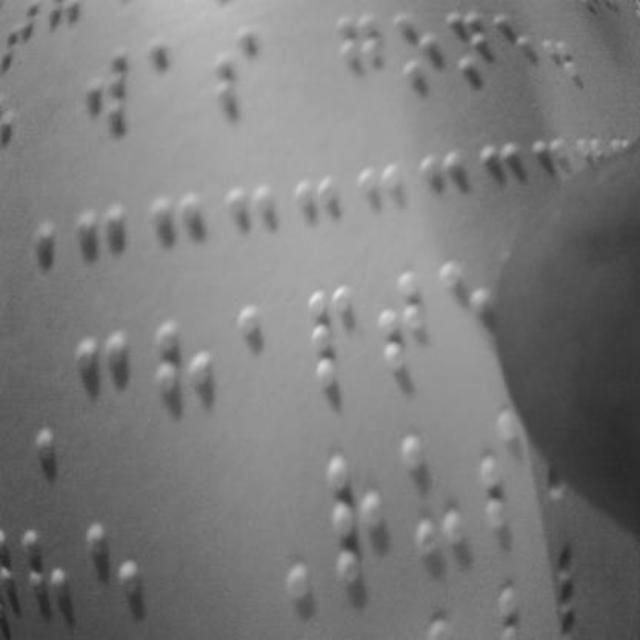braiile: (399, 424, 469, 572), (320, 454, 392, 592), (68, 324, 140, 460), (10, 506, 80, 640), (154, 318, 222, 452), (436, 256, 500, 392), (302, 280, 368, 410), (372, 263, 438, 392), (84, 510, 146, 640), (230, 299, 292, 426), (80, 36, 140, 148), (206, 12, 262, 130), (388, 4, 442, 102), (144, 28, 192, 136), (333, 9, 382, 109), (446, 2, 492, 104)
